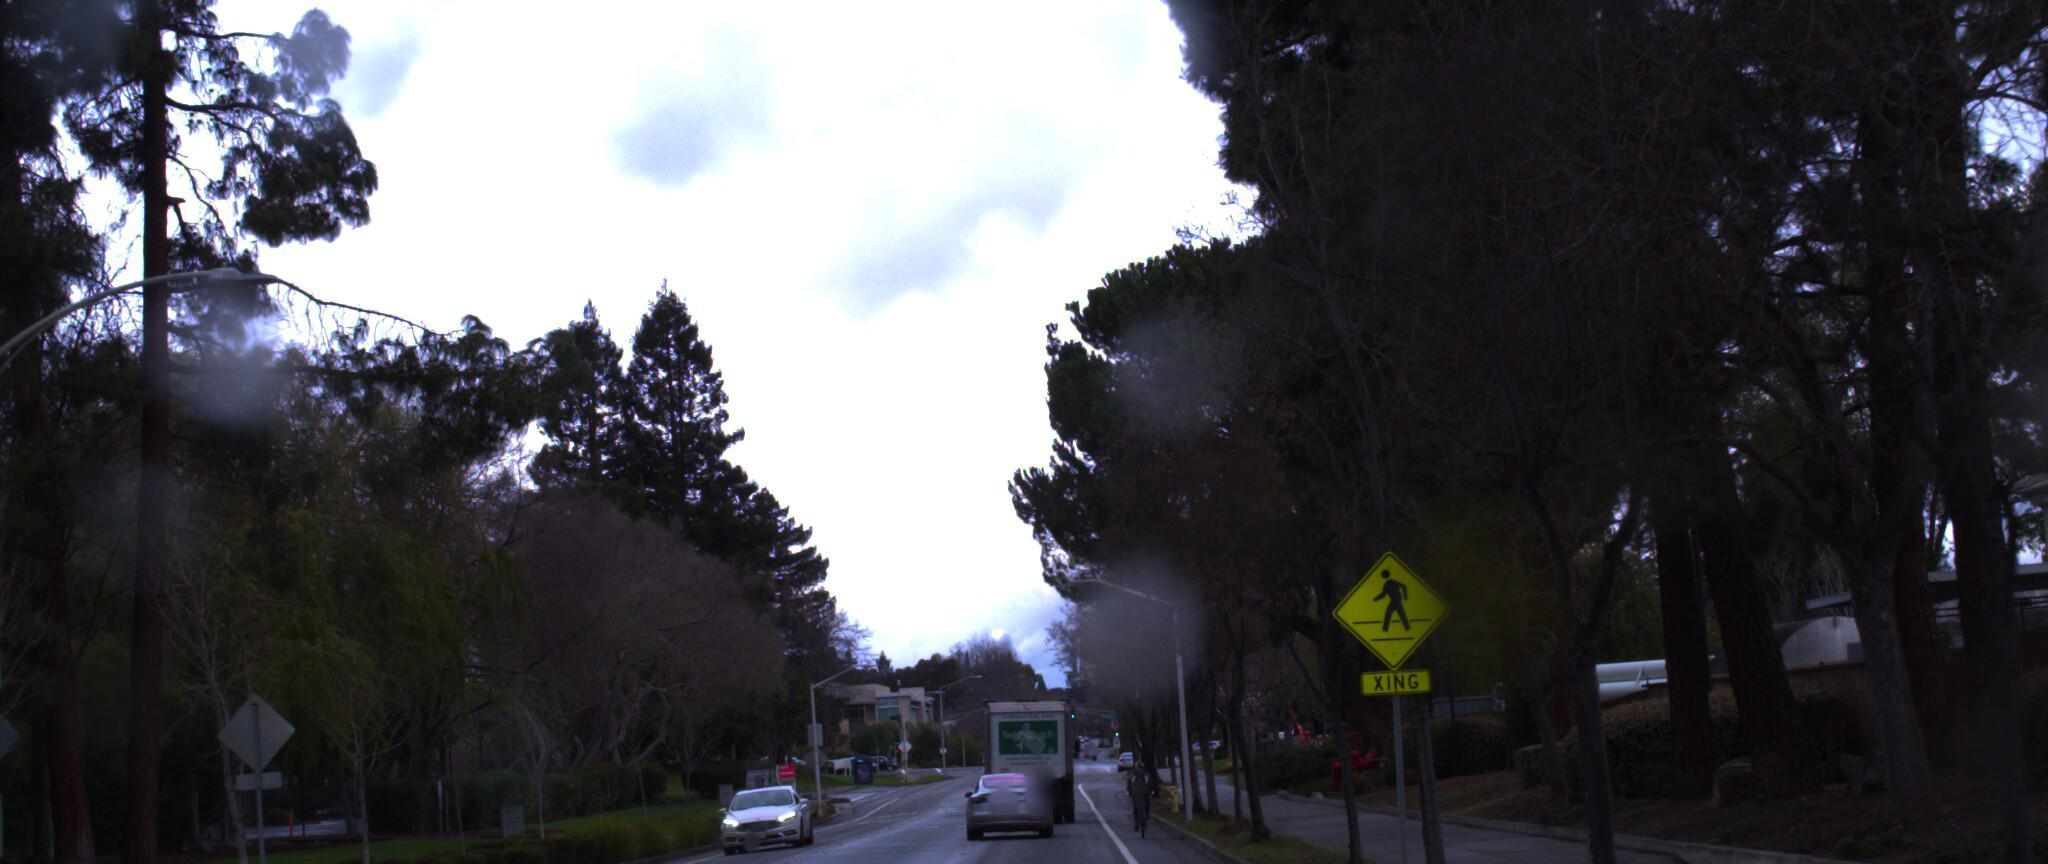bicycle: (1128, 748, 1165, 827)
car: (712, 782, 810, 860), (967, 767, 1055, 844)
